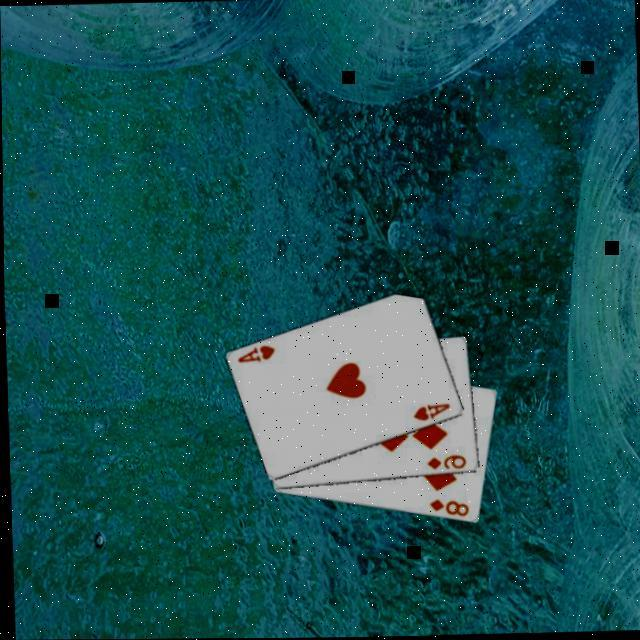8D: (426, 495, 471, 519)
9D: (424, 451, 469, 472)
AH: (411, 399, 453, 423), (234, 341, 277, 364)
